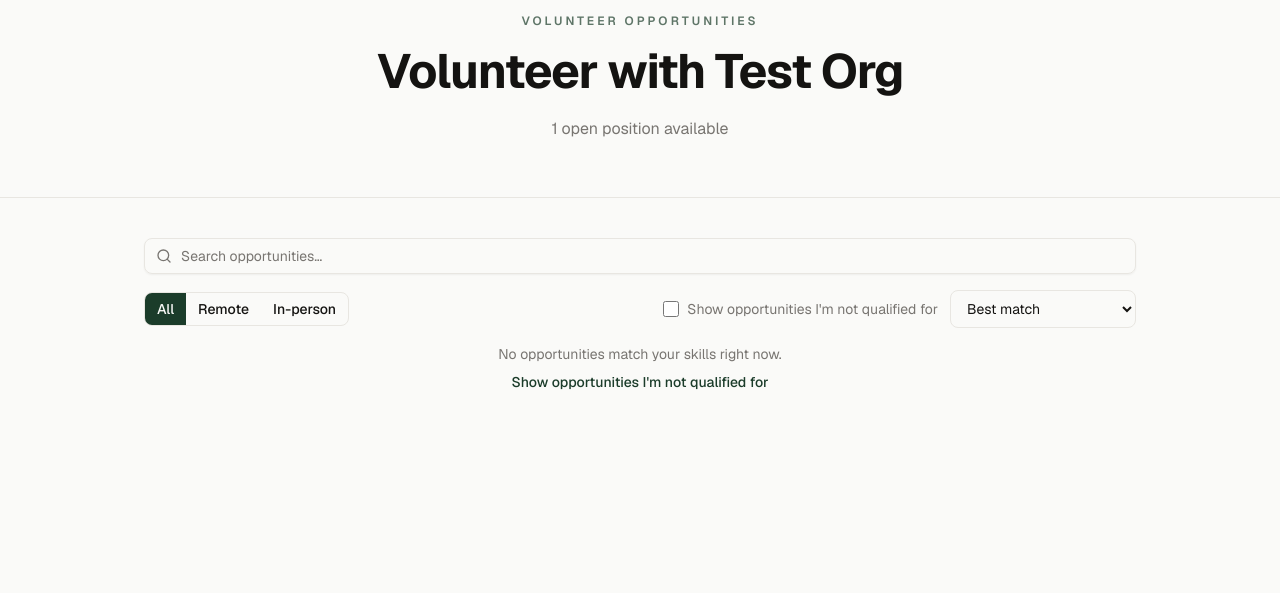
OpportunitiesListing › offers a direct escape hatch instead of a dead-end "Clear filters" when the qualification filter empties the list
expect the text "No opportunities match your skills right now." is shown: met, box left=498, top=345, right=782, bottom=363
Click the button "Show opportunities I'm not qualified for": (640, 382) left=511, top=372, right=768, bottom=392
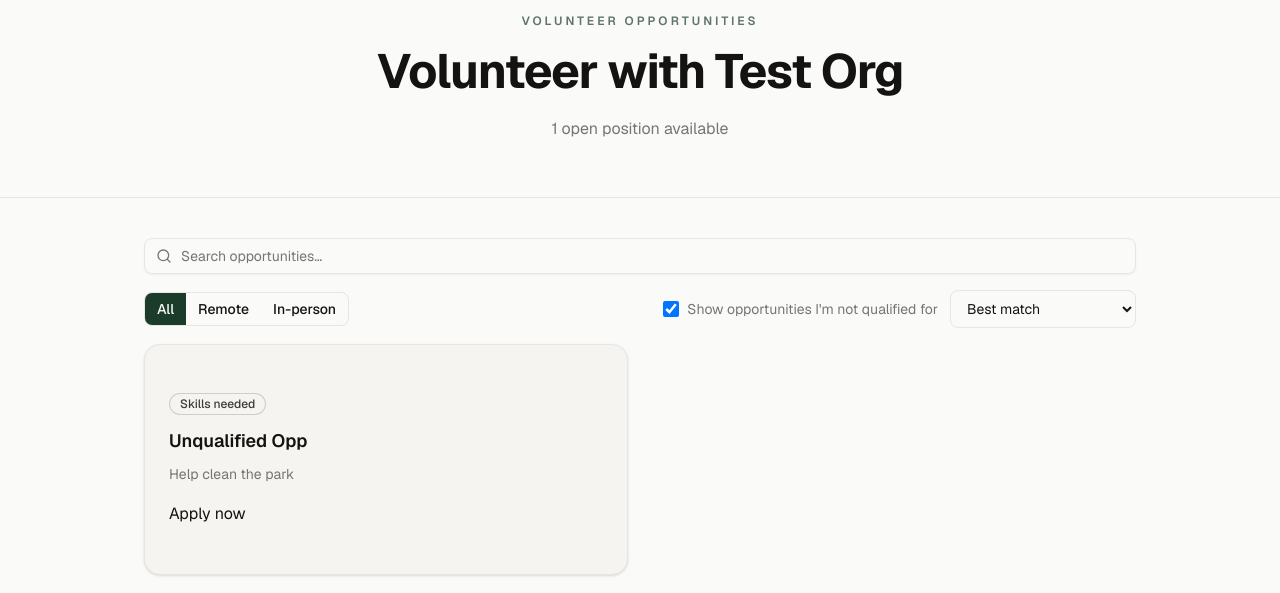
expect the heading "Unqualified Opp" is shown: met, box left=169, top=429, right=307, bottom=452
